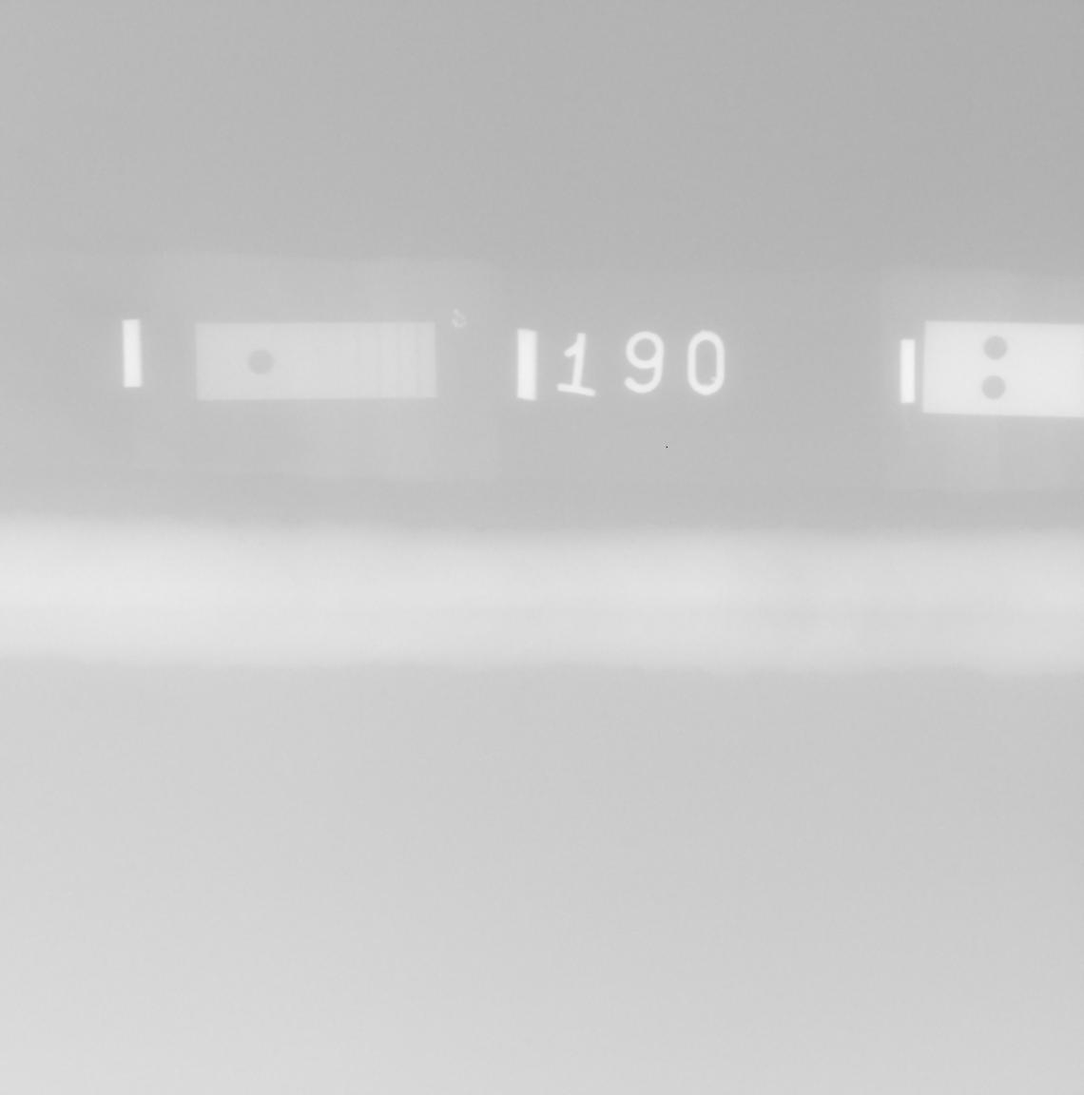Pore/Porosity: (237, 534, 243, 542), (259, 543, 265, 546)
Reference Standard 1: (194, 321, 436, 400)
